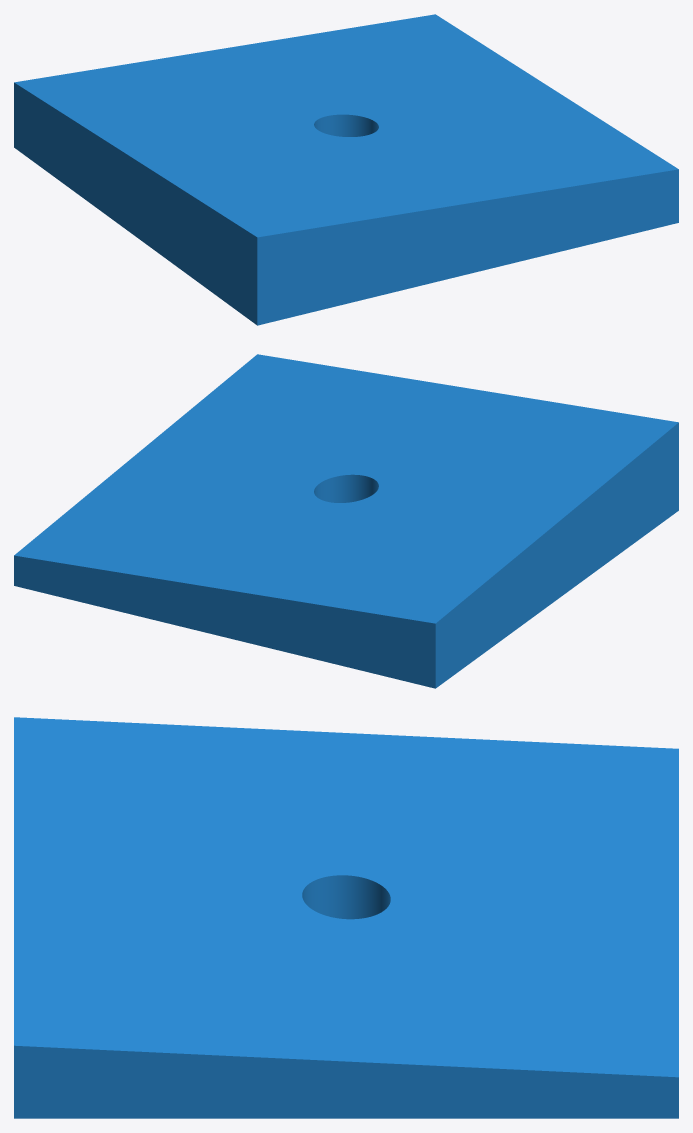
The model's file is bj_calco_3.glb.
The picture shows the model from 3 angles, top to bottom: view 1: azimuth 30°, elevation 25°; view 2: azimuth 150°, elevation 25°; view 3: azimuth 270°, elevation 25°; orthographic projection. The views are drawn at different scales.
Visible parts, largest first — view 1: bj_calco_3; view 2: bj_calco_3; view 3: bj_calco_3.
Boxes of the visible parts, left/top/right/bottom form: bj_calco_3: left=14, top=14, right=678, bottom=325; bj_calco_3: left=14, top=354, right=678, bottom=688; bj_calco_3: left=14, top=717, right=678, bottom=1118.
Bounding box in the file's own units: 30 × 6 × 30.
